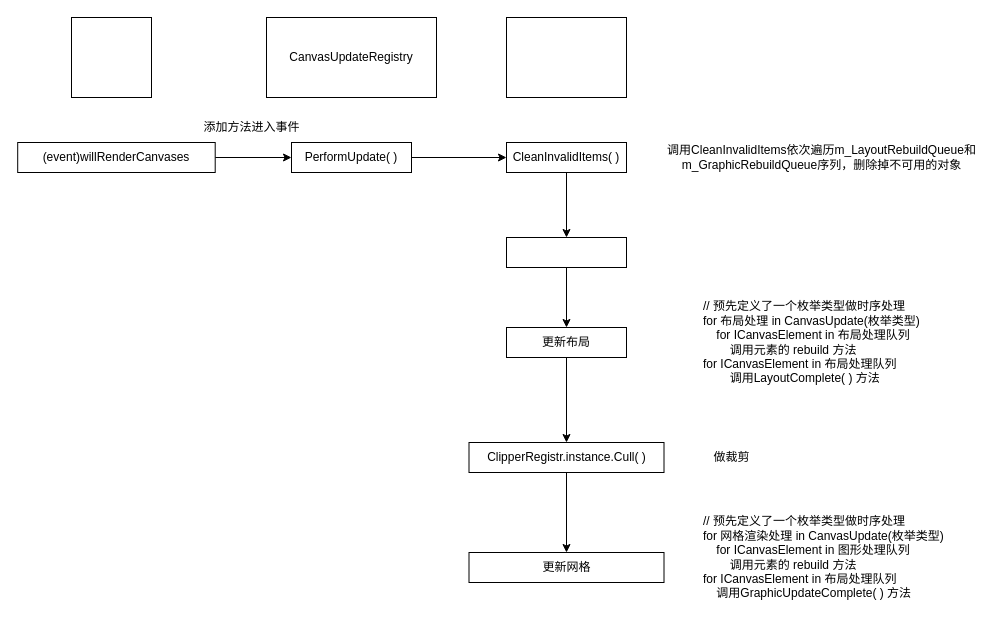
Some shapes in this 1004 by 625 pixel diagram are drawn without their labels. Here are the shapes that lost their labels. From the top down, the box of each, then its label:
(70, 16, 152, 98): Unity Canvas
(506, 16, 626, 98): PerformUpdate( ) 函数流程
(506, 236, 626, 268): SortLayoutQueue( )
